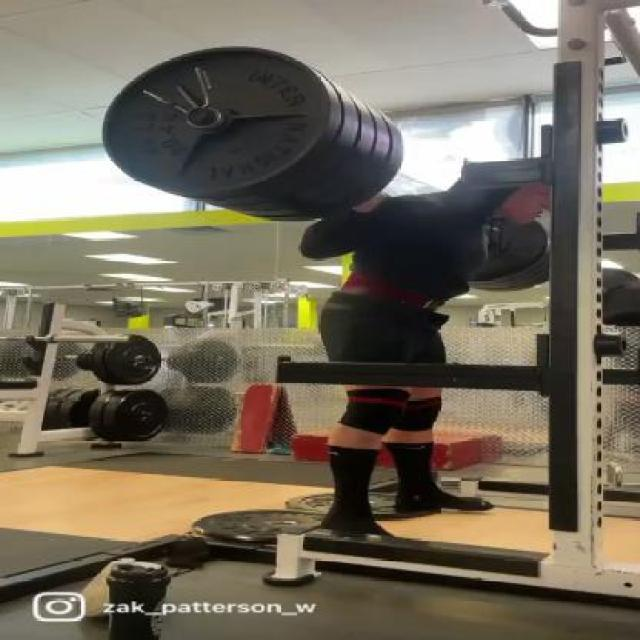barbell: (93, 39, 364, 212)
